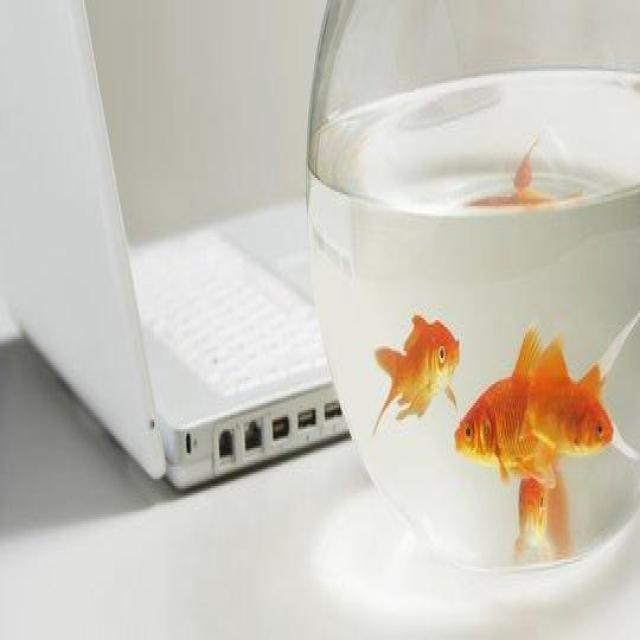GoldFish: (454, 309, 640, 473), (370, 310, 460, 432), (532, 368, 616, 455), (513, 466, 554, 572)
